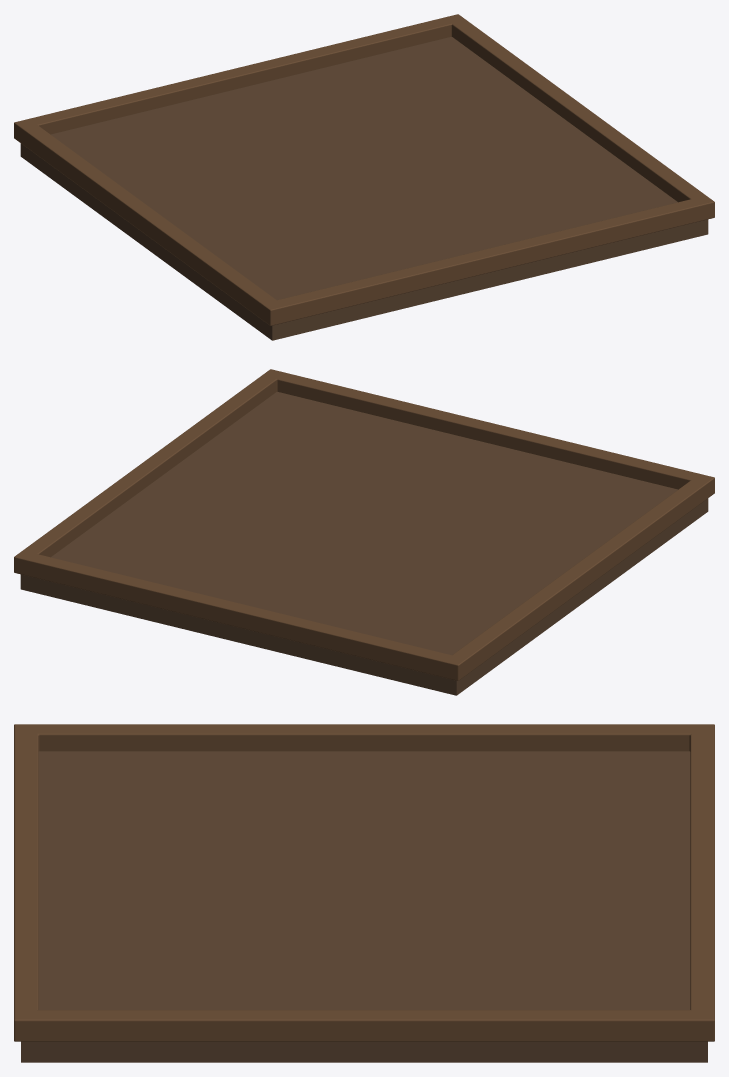
File: board.glb
3 renders of one model, top to bottom at view 1: azimuth 30°, elevation 25°; view 2: azimuth 150°, elevation 25°; view 3: azimuth 270°, elevation 25°, orthographic. The views are drawn at different scales.
Parts seen in each view (by area): view 1: Board_Base, Continuous_Walnut_Frame; view 2: Board_Base, Continuous_Walnut_Frame; view 3: Board_Base, Continuous_Walnut_Frame.
Boxes of the visible parts, left/top/right/bottom form: Board_Base: left=20, top=37, right=708, bottom=340; Continuous_Walnut_Frame: left=14, top=14, right=714, bottom=325; Board_Base: left=20, top=392, right=708, bottom=695; Continuous_Walnut_Frame: left=14, top=369, right=714, bottom=680; Board_Base: left=21, top=751, right=707, bottom=1062; Continuous_Walnut_Frame: left=14, top=724, right=714, bottom=1041.
Bounding box in the file's own units: 10 × 0.72 × 10.
